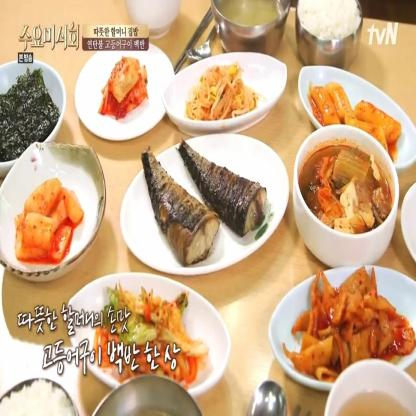Peixe: (129, 124, 278, 280)
